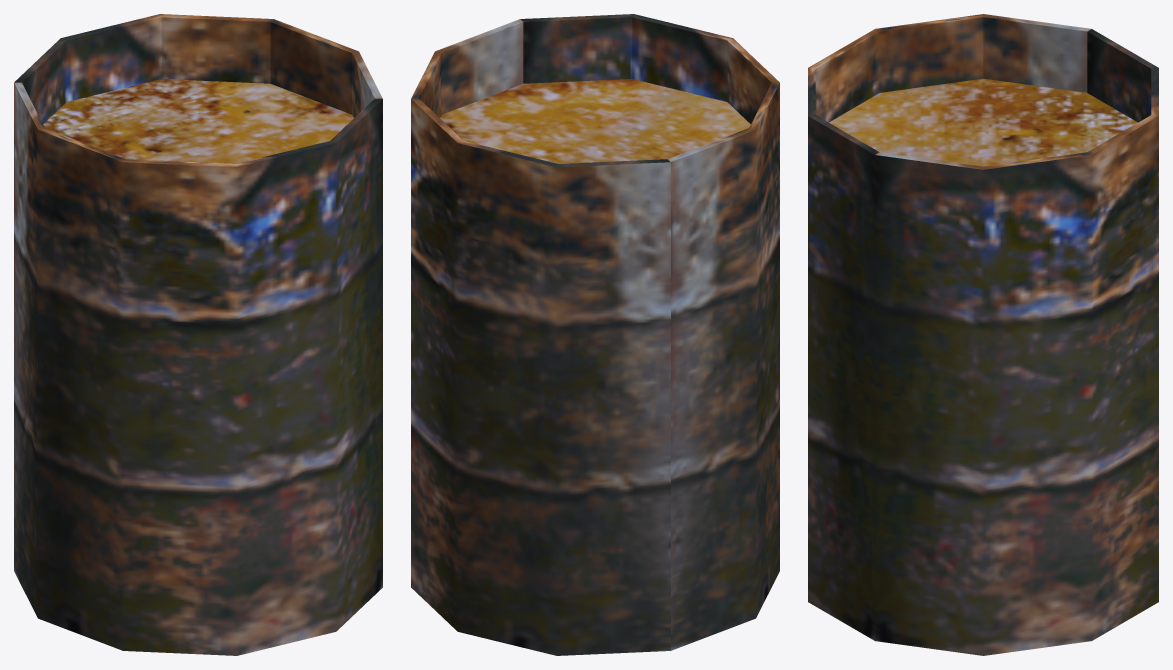
File: grease_barrel.FBX
3 views of the same model, side by side, from view 1: azimuth 30°, elevation 25°; view 2: azimuth 150°, elevation 25°; view 3: azimuth 270°, elevation 25° (orthographic).
Parts seen in each view (by area): view 1: grease_barrel; view 2: grease_barrel; view 3: grease_barrel.
Boxes of the visible parts, bbox=[...] form: grease_barrel: bbox=[14, 14, 382, 655]; grease_barrel: bbox=[411, 14, 779, 655]; grease_barrel: bbox=[808, 14, 1158, 655].
Bounding box in the file's own units: 48.82 × 70.99 × 46.43.
